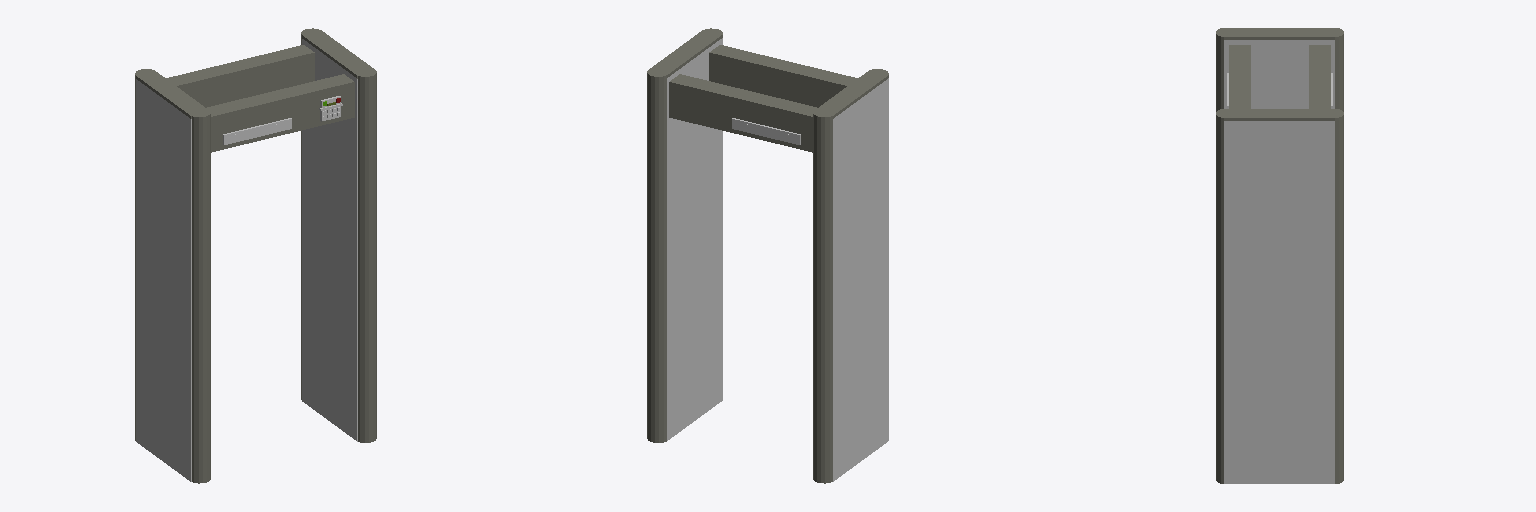
3 renders of one model, left to right at view 1: azimuth 30°, elevation 25°; view 2: azimuth 150°, elevation 25°; view 3: azimuth 270°, elevation 25°, orthographic.
Visible parts, largest first — view 1: hexadecagon; view 2: hexadecagon; view 3: hexadecagon.
Boxes of the visible parts, <box> form: hexadecagon: <box>135,28,376,483</box>; hexadecagon: <box>647,28,888,483</box>; hexadecagon: <box>1216,28,1343,483</box>.
Size of the model in its own units: 19 by 35.8 by 11.4.
6 materials, 4 textured.